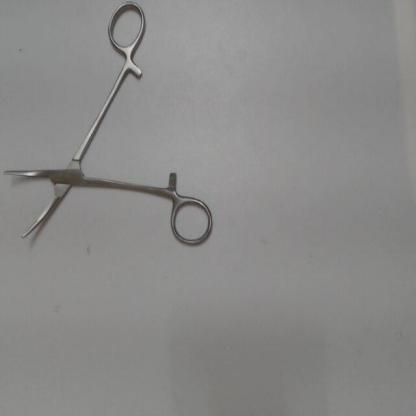Crile Artery Forceps: (0, 2, 218, 252)
